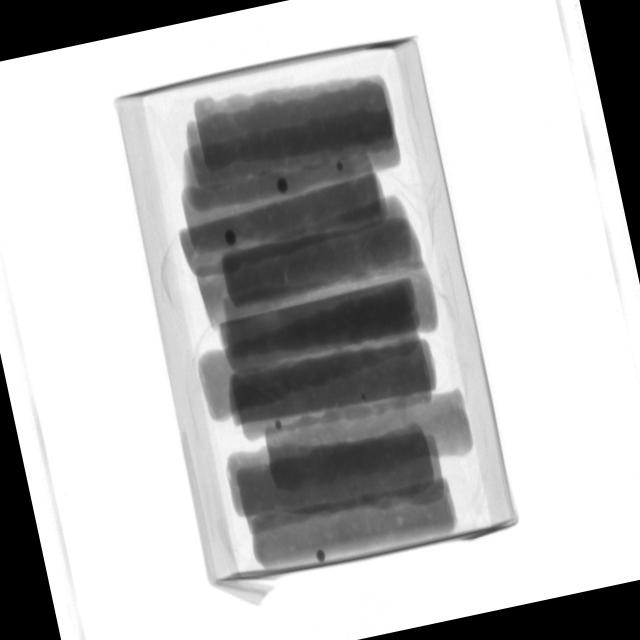ym: (224, 229, 239, 247), (277, 177, 291, 195), (317, 548, 328, 562), (334, 162, 344, 173), (274, 421, 283, 432), (361, 393, 368, 400)
